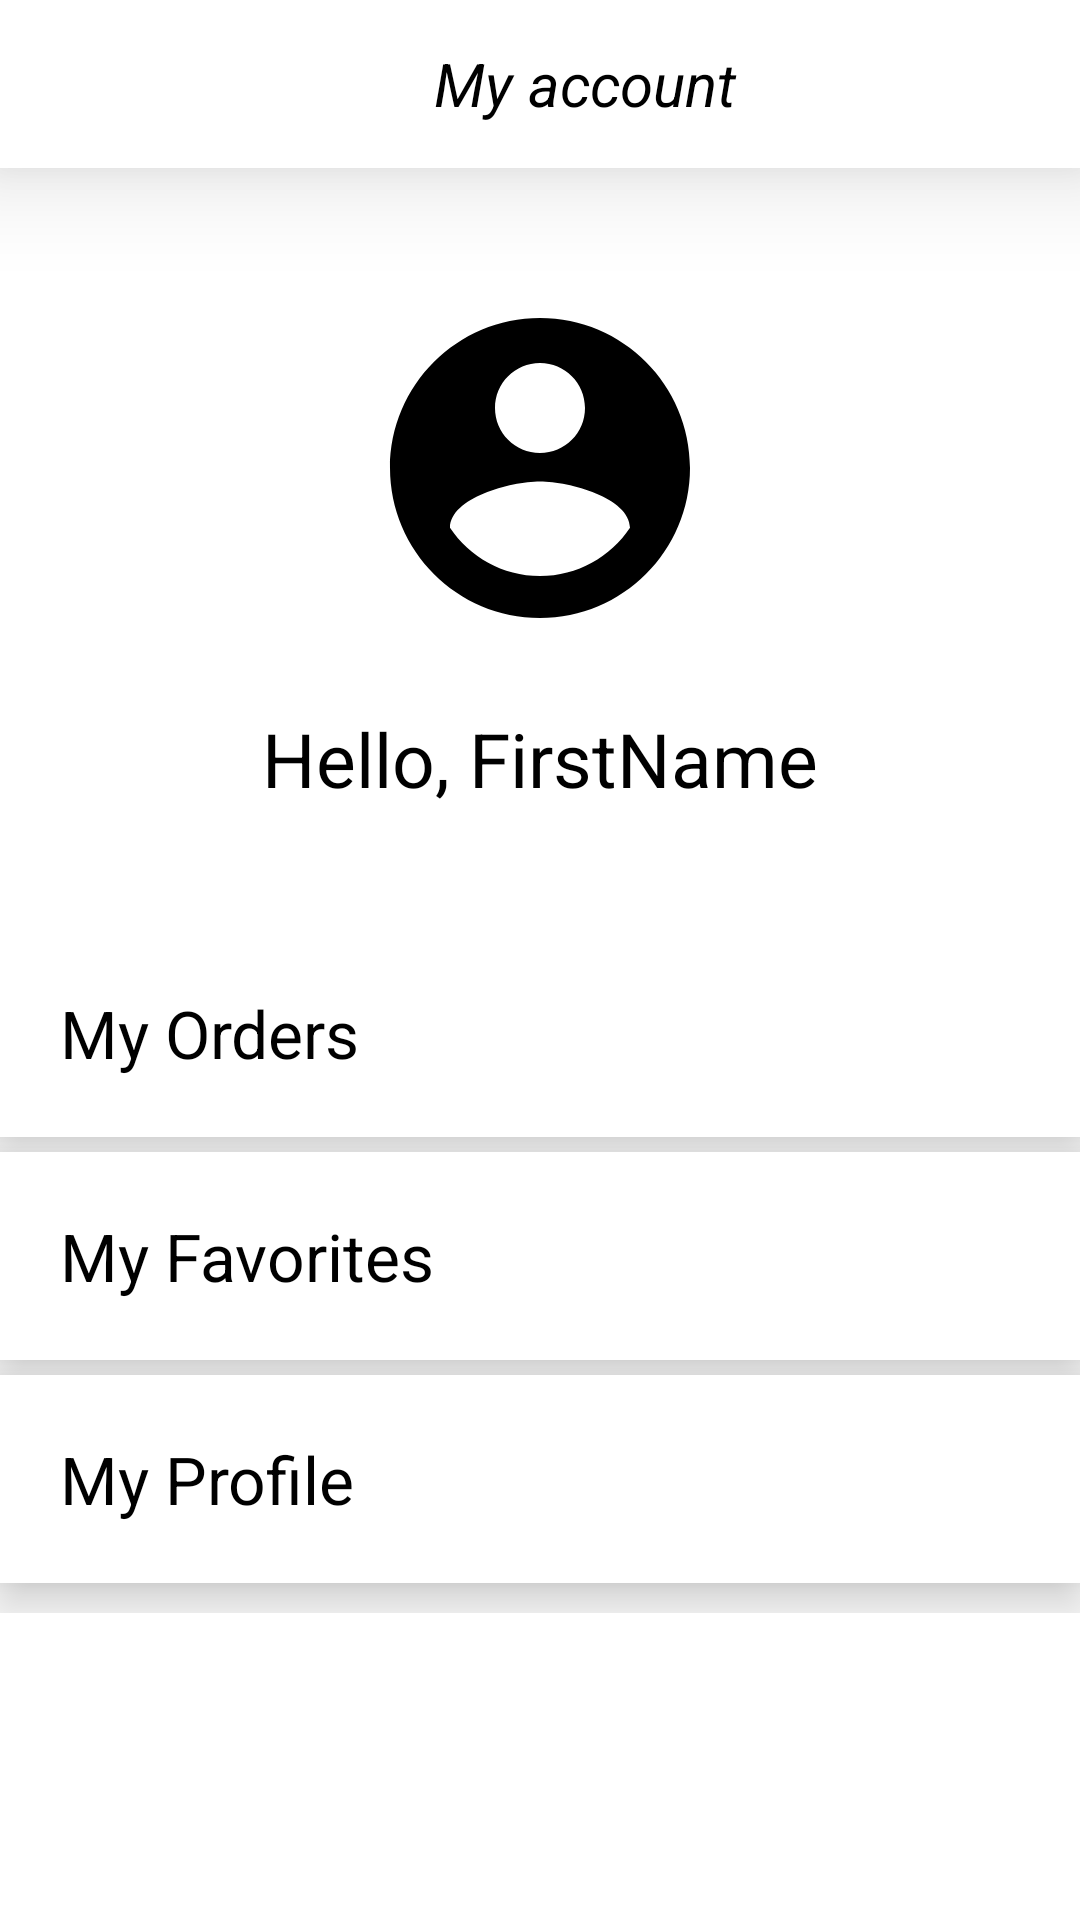

Screen size 1080 × 1920. Icon name, then its box in pixels as (x1=x1, y1=y1, x2=x2, y2=y2):
imageaccount: (x1=390, y1=318, x2=690, y2=618)
